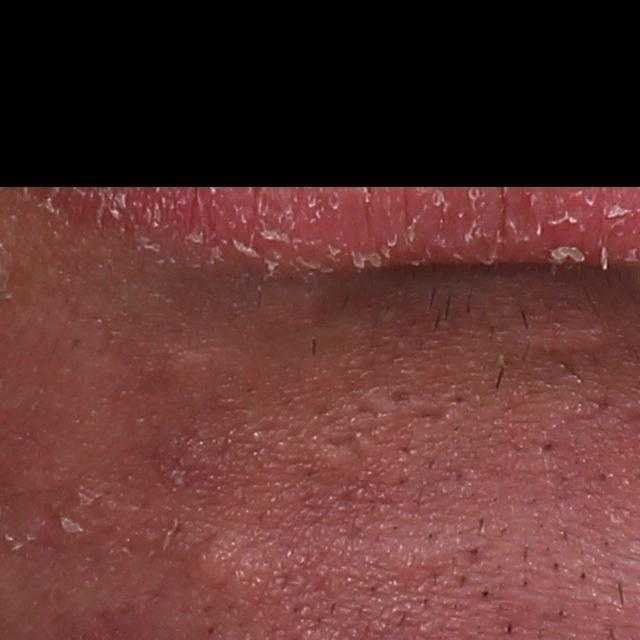comedo: (588, 465, 612, 486), (476, 582, 495, 605)
hypertrophic_scar: (315, 373, 455, 473), (510, 314, 606, 360), (190, 538, 243, 596)
